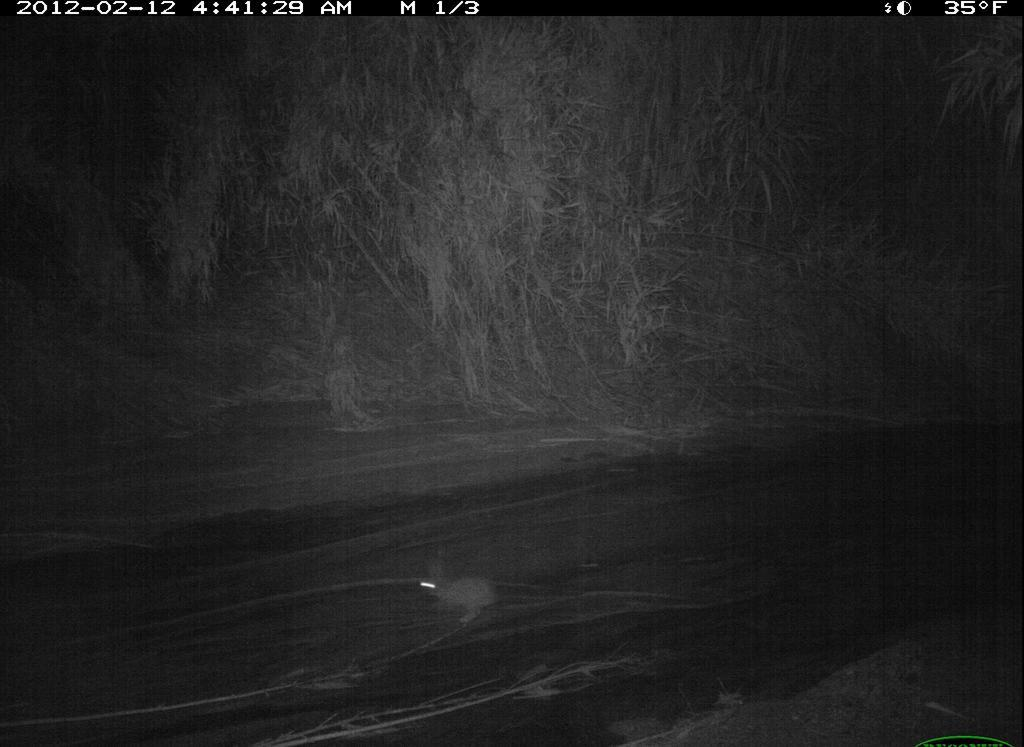rabbit: (405, 542, 505, 628)
